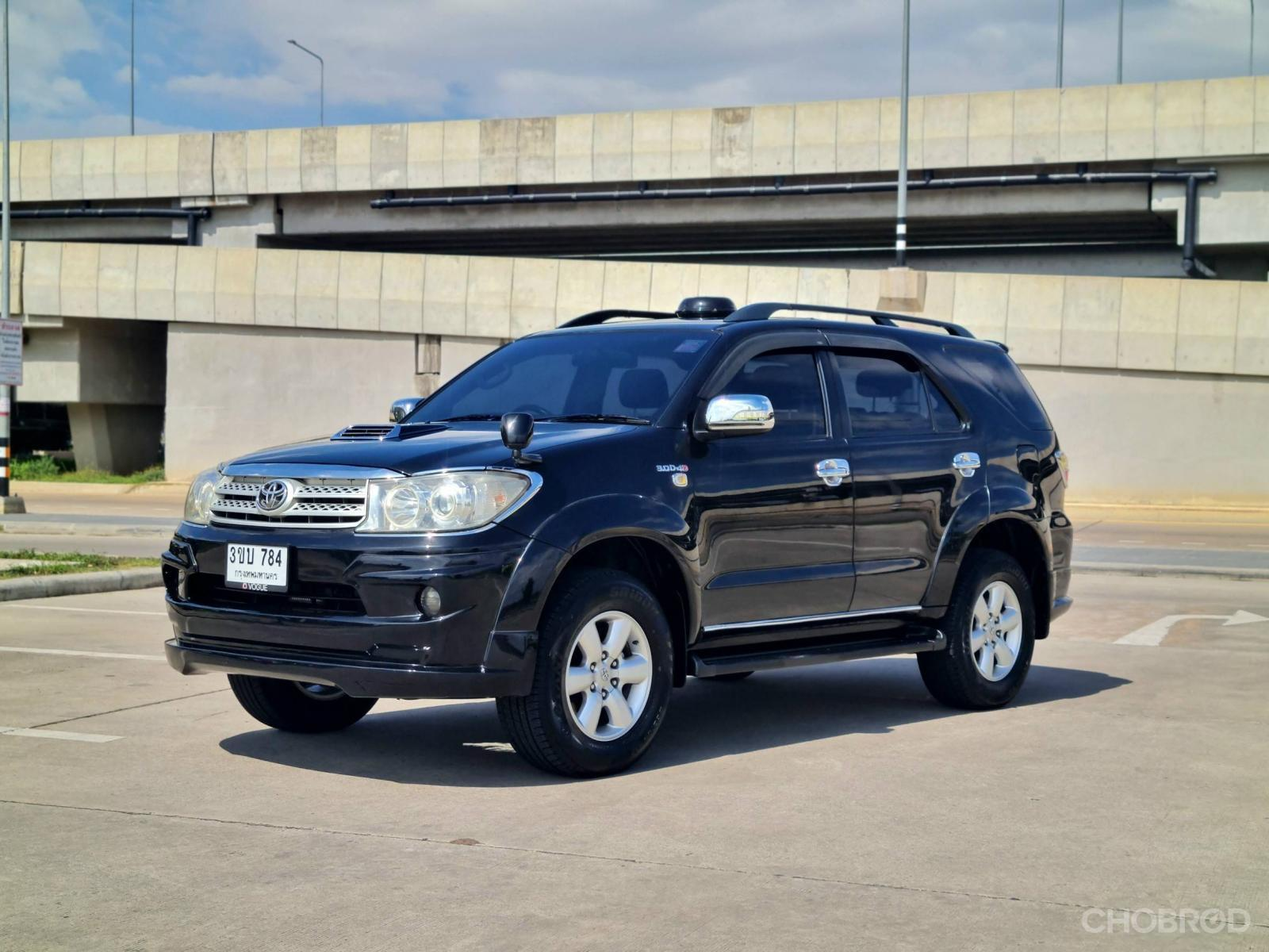license-plate: (220, 538, 296, 600)
